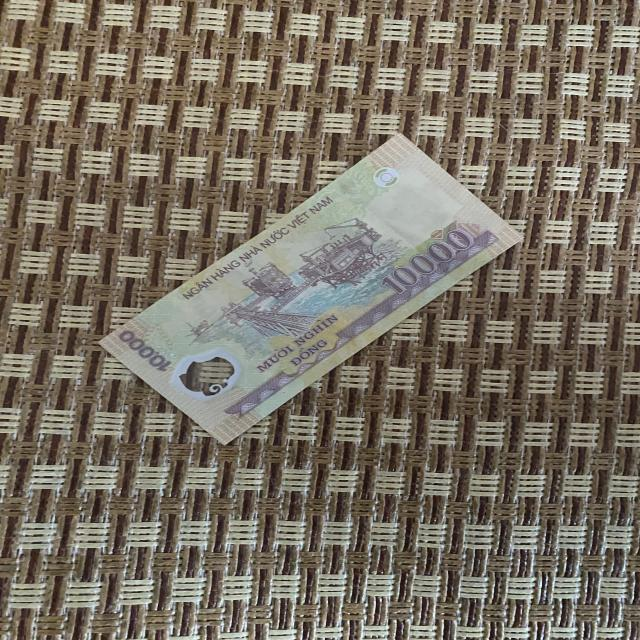10 000 VND: (95, 132, 526, 447)
